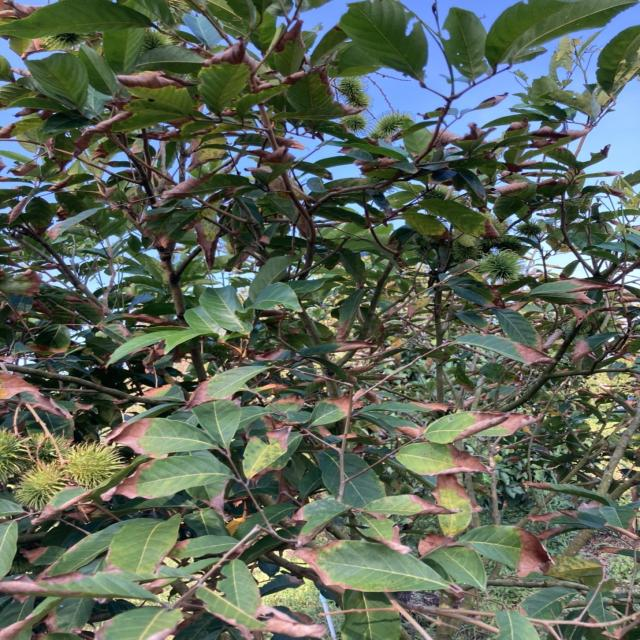Leaf Blight: (85, 41, 512, 263)
